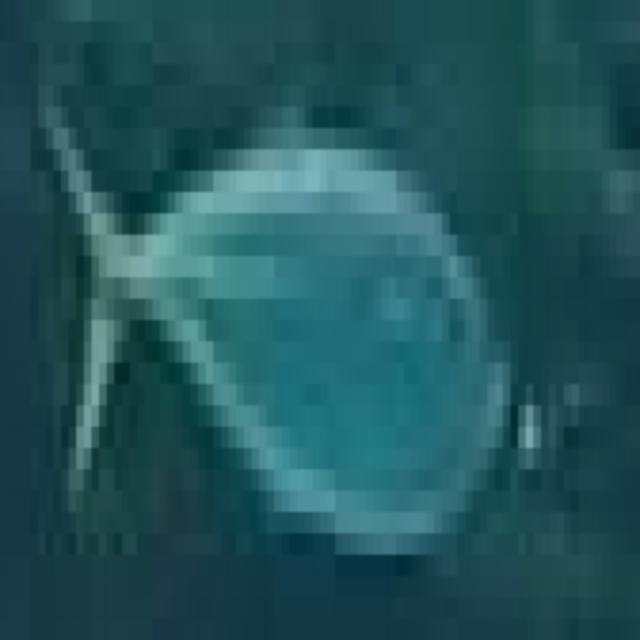fish: (7, 21, 640, 639)
